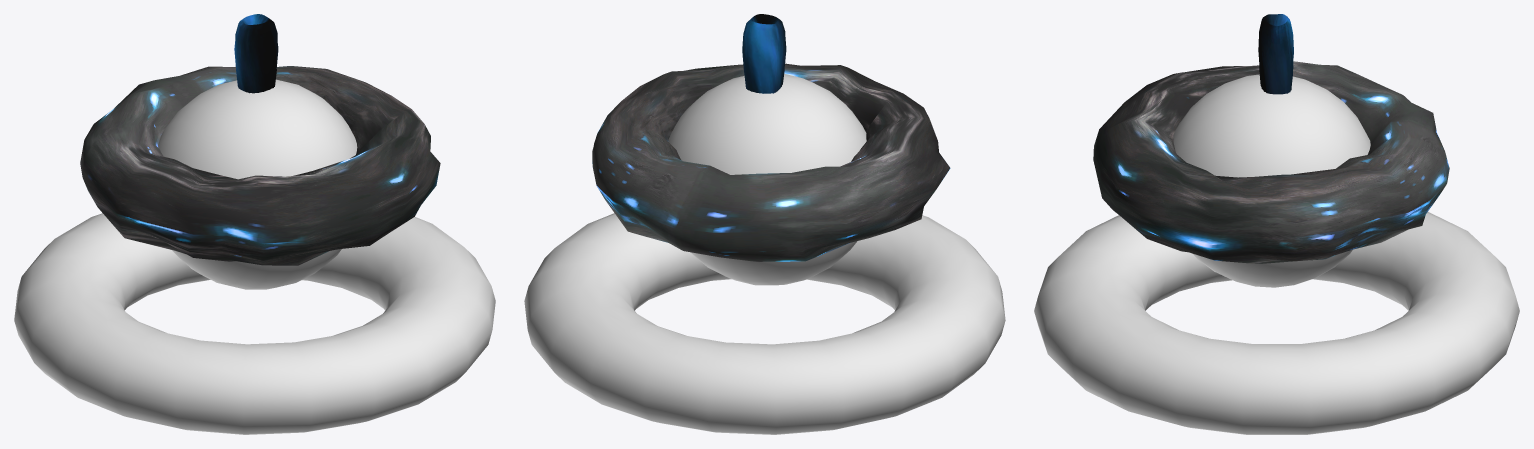
Rendered from Hybrid_ArtifactContainmentFieldVoid.glb.
3 renders of one model, left to right at view 1: azimuth 30°, elevation 25°; view 2: azimuth 150°, elevation 25°; view 3: azimuth 270°, elevation 25°, orthographic.
Visible parts, largest first — view 1: Torus09, Torus02, Dummy03, BlueNuke; view 2: Torus09, Torus02, Dummy03, BlueNuke; view 3: Torus09, Torus02, Dummy03, BlueNuke.
Boxes of the visible parts, x1=… form: Torus09: x1=14, y1=213, x2=495, y2=434; Torus02: x1=80, y1=66, x2=440, y2=265; Dummy03: x1=158, y1=79, x2=357, y2=289; BlueNuke: x1=234, y1=14, x2=278, y2=93; Torus09: x1=524, y1=213, x2=1005, y2=434; Torus02: x1=592, y1=63, x2=950, y2=262; Dummy03: x1=668, y1=74, x2=866, y2=285; BlueNuke: x1=742, y1=14, x2=786, y2=93; Torus09: x1=1034, y1=212, x2=1519, y2=434; Torus02: x1=1093, y1=61, x2=1449, y2=263; Dummy03: x1=1173, y1=74, x2=1370, y2=287; BlueNuke: x1=1258, y1=14, x2=1293, y2=94.
Size of the model in its own units: 15.81 by 12.05 by 15.98.
13 materials, 13 textured.
